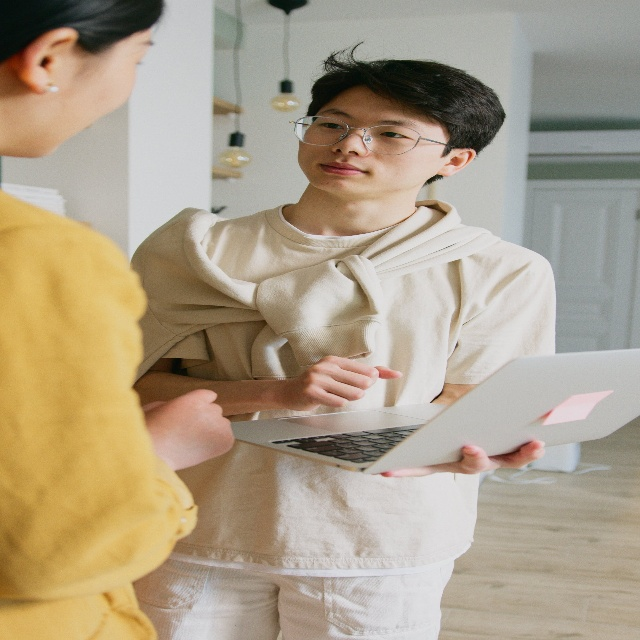Gafas: (289, 113, 449, 156)
Sin_guantes: (142, 389, 234, 469), (283, 354, 403, 412), (380, 439, 545, 478)
